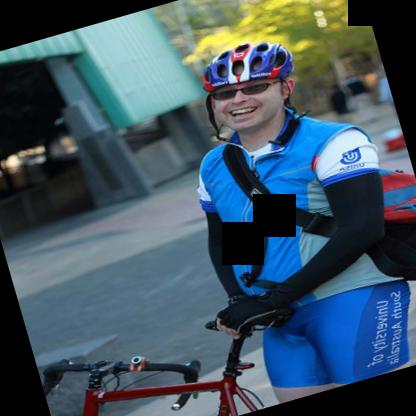backpack: (364, 169, 416, 283)
